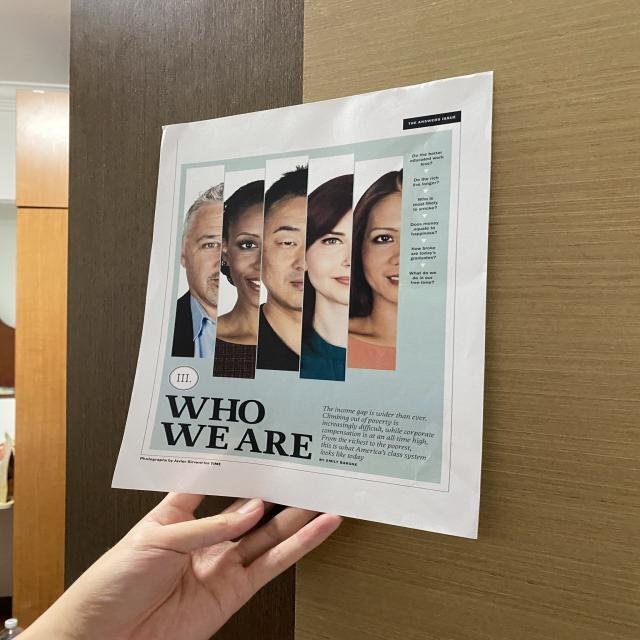document: (113, 73, 492, 538)
